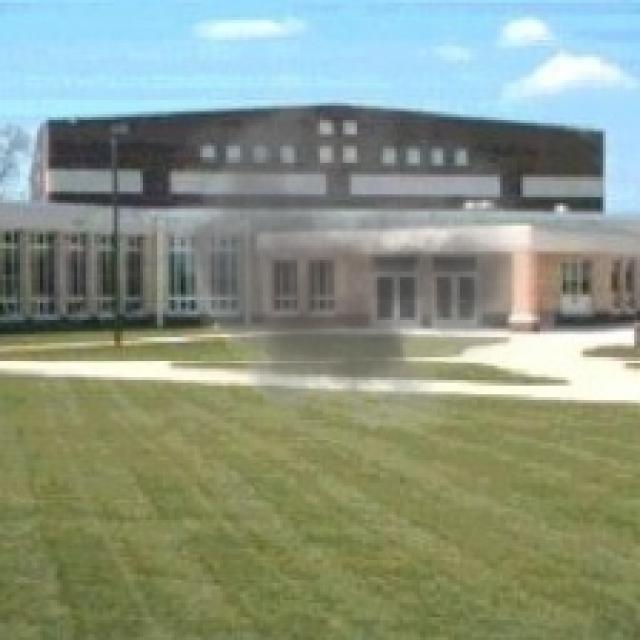Smoke: (151, 57, 546, 452)
